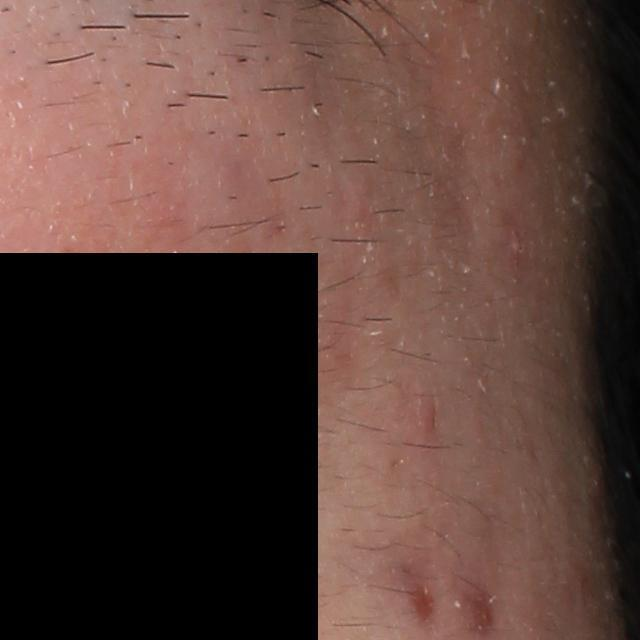papule: (412, 396, 441, 439)
